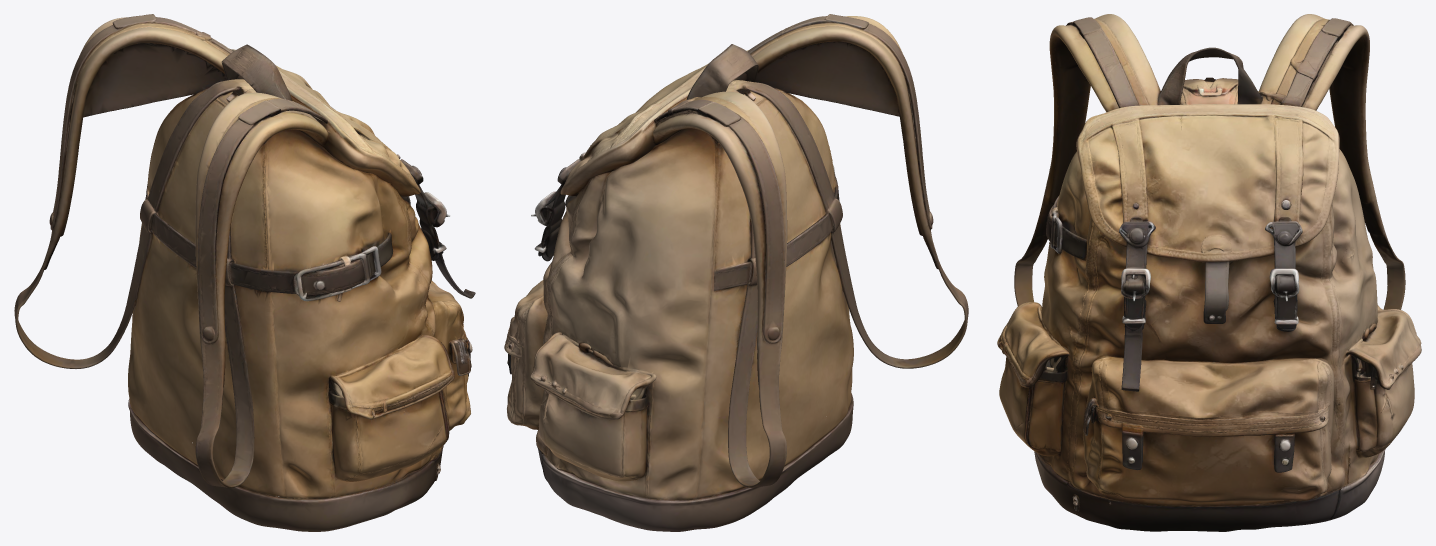
File: tripo_backpack.glb
The picture shows the model from 3 angles, left to right: view 1: azimuth 30°, elevation 25°; view 2: azimuth 150°, elevation 25°; view 3: azimuth 270°, elevation 25°; orthographic projection.
Visible parts, largest first — view 1: part_0; view 2: part_0; view 3: part_0.
Boxes of the visible parts, x1,y1,x2,y2 form: part_0: [14, 14, 475, 531]; part_0: [504, 14, 968, 531]; part_0: [997, 14, 1421, 531].
Size of the model in its own units: 0.8069 by 0.9796 by 0.8964.
1 material, 1 textured.
